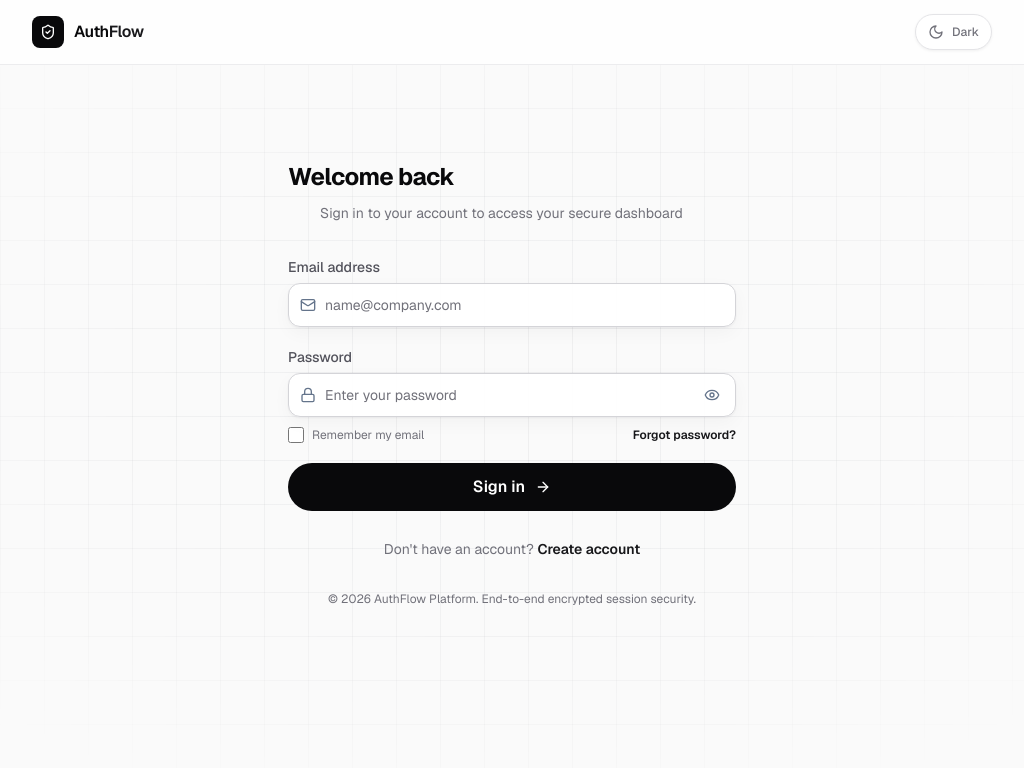
Scenario: Form Validation Tests › Login Form Validation › displays validation errors when submitting empty form
This screenshot has width=1024, height=768.
Click the button "Sign in": [512, 487] box [288,463,736,511]
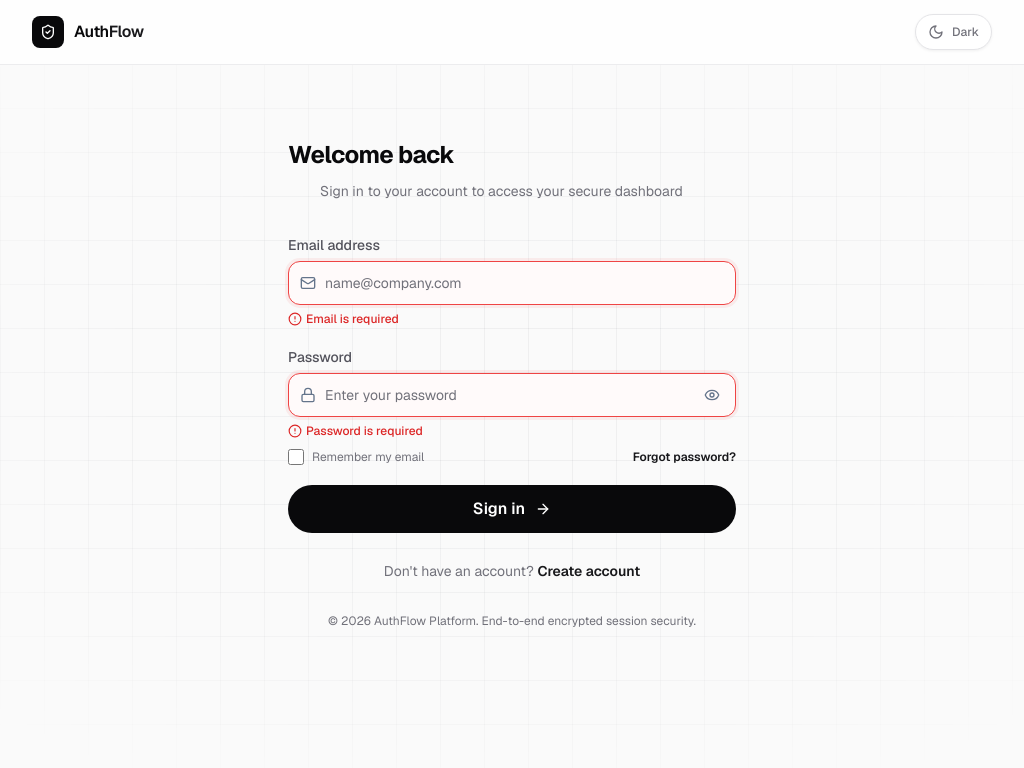
Expected: the text "Email is required" is shown, [306,311,399,327]
Expected: the text "Password is required" is shown, [306,423,423,439]
